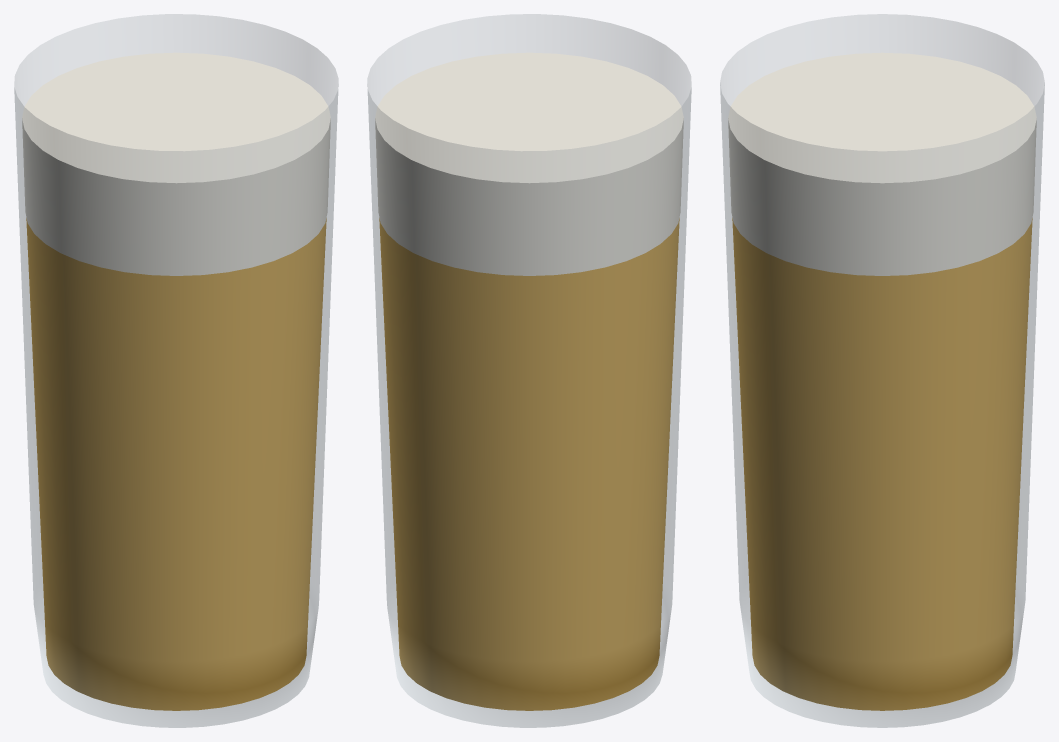
File: bebida-1-card.glb
3 renders of one model, left to right at view 1: azimuth 30°, elevation 25°; view 2: azimuth 150°, elevation 25°; view 3: azimuth 270°, elevation 25°, orthographic.
Bounding box in the file's own units: 0.075 × 0.15 × 0.075.
